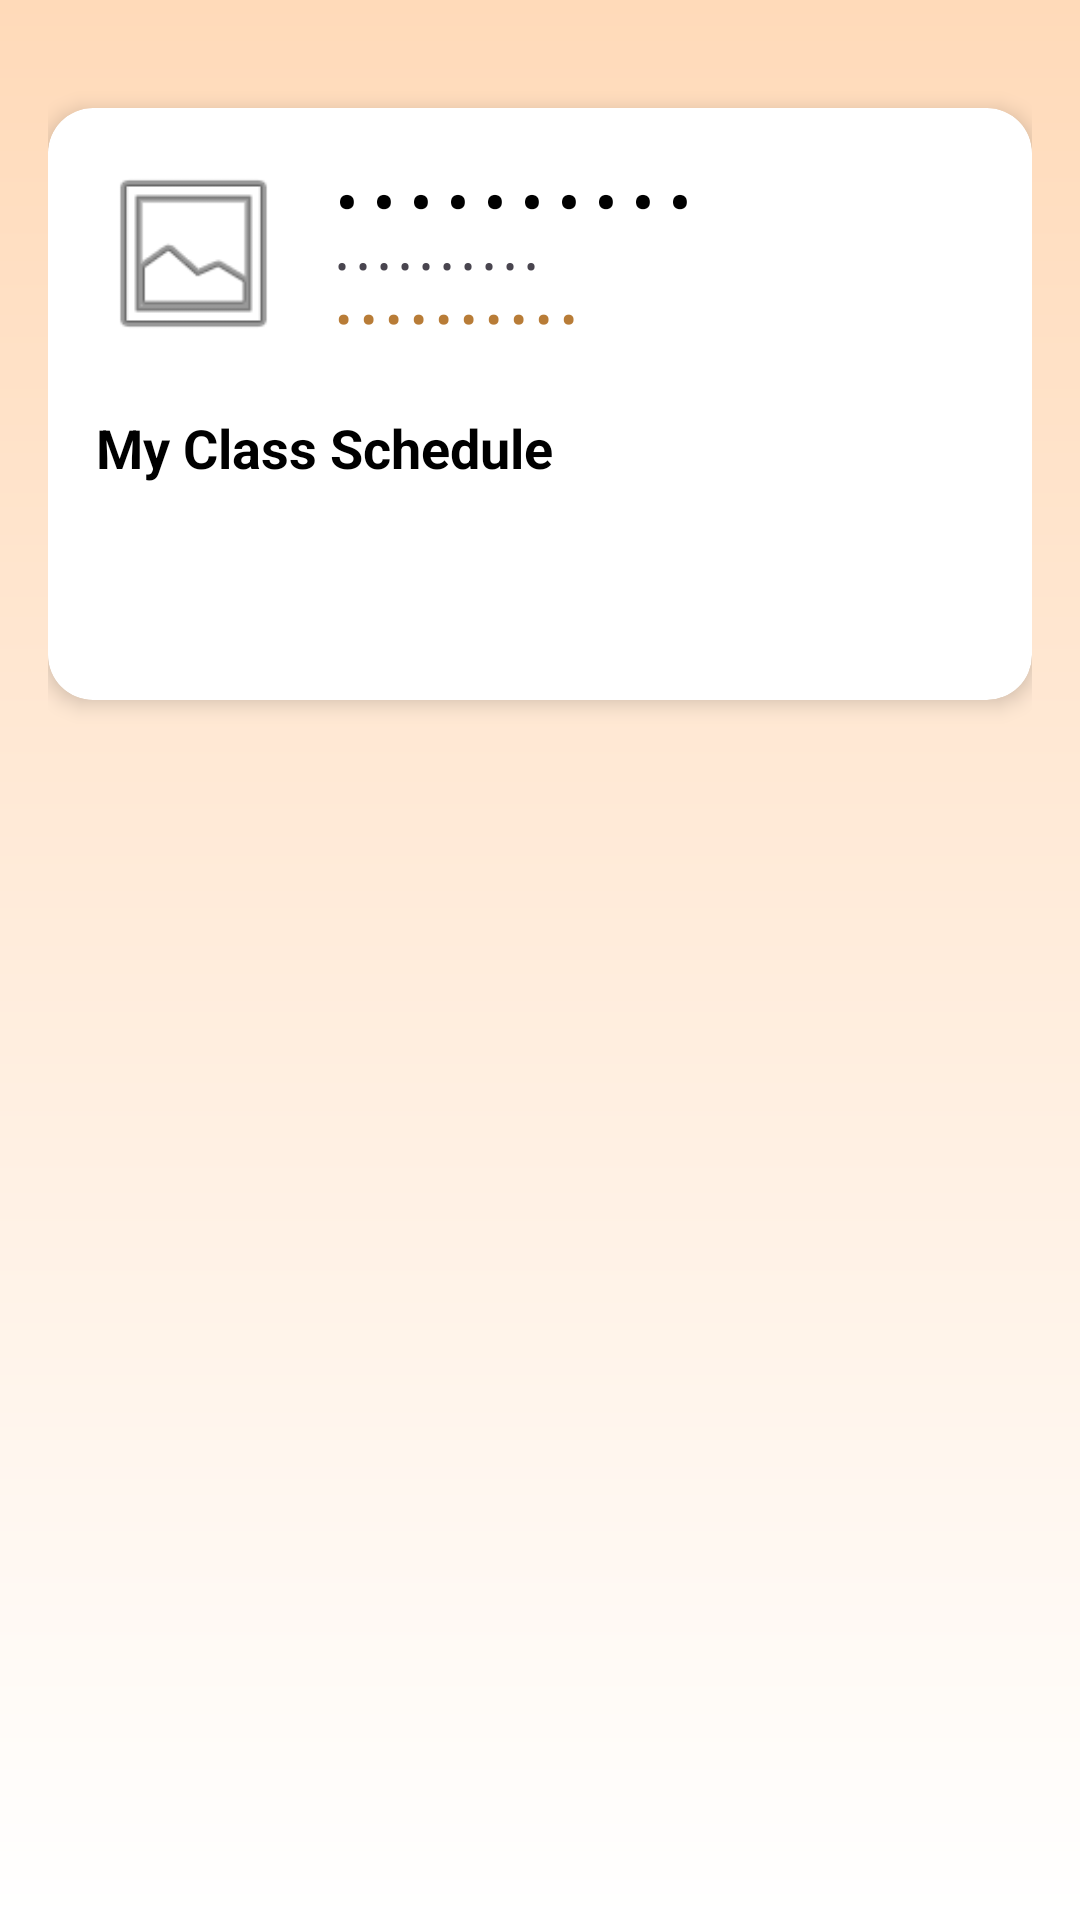

Screen size 1080px×1920px. Icon name, then its center in pixels as [x,y]:
gallery: [193,253]
